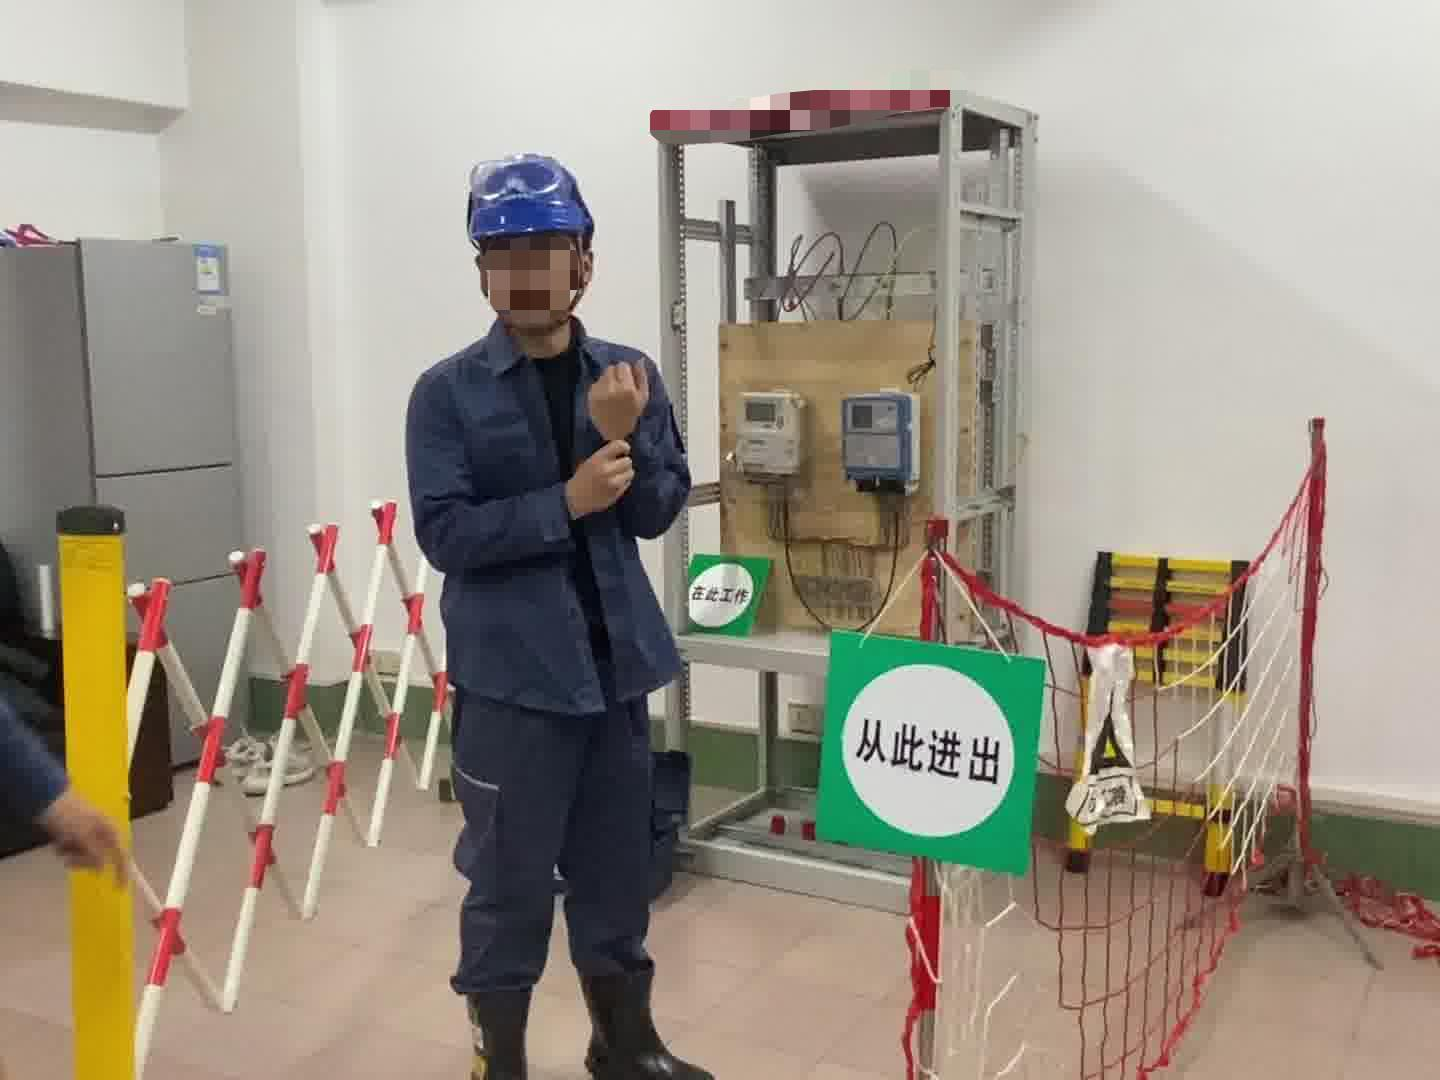halt: (463, 153, 608, 349)
